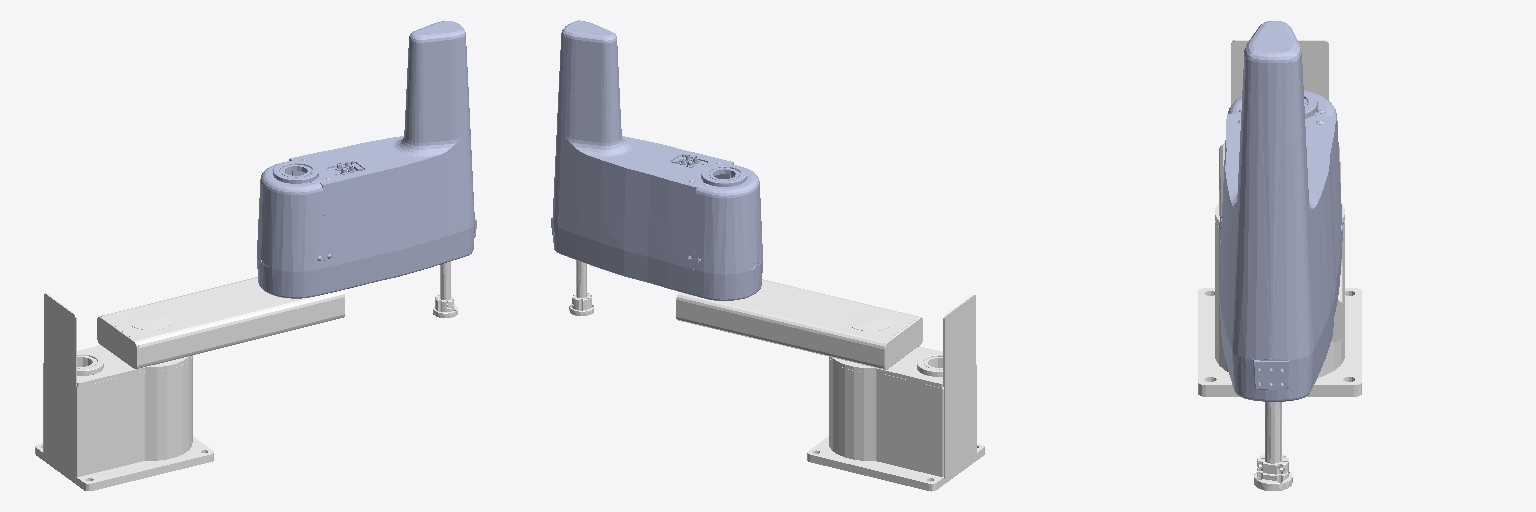
The robot description file, URDF, robot "mxx_scara":
<robot
  name="mxx_scara">
  <link
    name="base_link">
    <inertial>
      <origin
        xyz="-0.056372 9.8397E-09 0.09756"
        rpy="0 0 0" />
      <mass
        value="6.7102" />
      <inertia
        ixx="0.035086"
        ixy="3.8433E-10"
        ixz="0.001048"
        iyy="0.060758"
        iyz="9.1338E-10"
        izz="0.046059" />
    </inertial>
    <visual>
      <origin
        xyz="0 0 0"
        rpy="0 0 0" />
      <geometry>
        <mesh
          filename="package://scara_description/meshes/base_link.STL" />
      </geometry>
      <material
        name="">
        <color
          rgba="1 1 1 1" />
      </material>
    </visual>
    <collision>
      <origin
        xyz="0 0 0"
        rpy="0 0 0" />
      <geometry>
        <mesh
          filename="package://scara_description/meshes/base_link.STL" />
      </geometry>
    </collision>
  </link>
  <link
    name="link1">
    <inertial>
      <origin
        xyz="0.14444 2.1602E-10 -0.026696"
        rpy="0 0 0" />
      <mass
        value="3.1367" />
      <inertia
        ixx="0.0057974"
        ixy="1.2819E-10"
        ixz="0.00014013"
        iyy="0.048087"
        iyz="4.3318E-12"
        izz="0.052437" />
    </inertial>
    <visual>
      <origin
        xyz="0 0 0"
        rpy="0 0 0" />
      <geometry>
        <mesh
          filename="package://scara_description/meshes/link1.STL" />
      </geometry>
      <material
        name="">
        <color
          rgba="1 1 1 1" />
      </material>
    </visual>
    <collision>
      <origin
        xyz="0 0 0"
        rpy="0 0 0" />
      <geometry>
        <mesh
          filename="package://scara_description/meshes/link1.STL" />
      </geometry>
    </collision>
  </link>
  <joint
    name="joint1"
    type="revolute">
    <origin
      xyz="0 0 0.254"
      rpy="9.3983E-25 2.5634E-20 0.0084538" />
    <parent
      link="base_link" />
    <child
      link="link1" />
    <axis
      xyz="0 0 -1" />
    <limit
      lower="-1.57"
      upper="1.57"
      effort="10"
      velocity="0.5" />
  </joint>
  <link
    name="link2">
    <inertial>
      <origin
        xyz="0.13576 -3.2018E-05 0.080843"
        rpy="0 0 0" />
      <mass
        value="5.6089" />
      <inertia
        ixx="0.036326"
        ixy="-9.0415E-06"
        ixz="-0.0068183"
        iyy="0.092872"
        iyz="2.3098E-05"
        izz="0.071551" />
    </inertial>
    <visual>
      <origin
        xyz="0 0 0"
        rpy="0 0 0" />
      <geometry>
        <mesh
          filename="package://scara_description/meshes/link2.STL" />
      </geometry>
      <material
        name="">
        <color
          rgba="0.79216 0.81961 0.93333 1" />
      </material>
    </visual>
    <collision>
      <origin
        xyz="0 0 0"
        rpy="0 0 0" />
      <geometry>
        <mesh
          filename="package://scara_description/meshes/link2.STL" />
      </geometry>
    </collision>
  </link>
  <joint
    name="joint2"
    type="revolute">
    <origin
      xyz="0.3 0 -0.003"
      rpy="1.1025E-21 -2.5499E-20 -0.043209" />
    <parent
      link="link1" />
    <child
      link="link2" />
    <axis
      xyz="0 0 -1" />
    <limit
      lower="-1.57"
      upper="1.57"
      effort="200"
      velocity="0.5" />
  </joint>
  <link
    name="fake_link">
    <inertial>
      <origin
        xyz="5.5511E-17 0 -0.19706"
        rpy="0 0 0" />
      <mass
        value="0.00025258" />
      <inertia
        ixx="2.6125E-09"
        ixy="-5.7623E-26"
        ixz="6.8932E-26"
        iyy="2.6125E-09"
        iyz="-6.8932E-26"
        izz="1.0153E-09" />
    </inertial>
    <visual>
      <origin
        xyz="0 0 0"
        rpy="0 0 0" />
      <geometry>
        <mesh
          filename="package://scara_description/meshes/fake_link.STL" />
      </geometry>
      <material
        name="">
        <color
          rgba="1 1 1 1" />
      </material>
    </visual>
    <collision>
      <origin
        xyz="0 0 0"
        rpy="0 0 0" />
      <geometry>
        <mesh
          filename="package://scara_description/meshes/fake_link.STL" />
      </geometry>
    </collision>
  </link>
  <joint
    name="joint4"
    type="revolute">
    <origin
      xyz="0.3 0 -0.11803"
      rpy="-3.1416 -1.0336E-22 -0.0047866" />
    <parent
      link="link2" />
    <child
      link="fake_link" />
    <axis
      xyz="0 0 1" />
    <limit
      lower="-3.14"
      upper="3.14"
      effort="200"
      velocity="0.5" />
  </joint>
  <link
    name="link3">
    <inertial>
      <origin
        xyz="-0.00025151 -6.8499E-05 -0.18776"
        rpy="0 0 0" />
      <mass
        value="0.10681" />
      <inertia
        ixx="0.0023302"
        ixy="5.998E-08"
        ixz="4.4198E-06"
        iyy="0.00233"
        iyz="1.3222E-06"
        izz="1.1087E-05" />
    </inertial>
    <visual>
      <origin
        xyz="0 0 0"
        rpy="0 0 0" />
      <geometry>
        <mesh
          filename="package://scara_description/meshes/link3.STL" />
      </geometry>
      <material
        name="">
        <color
          rgba="1 1 1 1" />
      </material>
    </visual>
    <collision>
      <origin
        xyz="0 0 0"
        rpy="0 0 0" />
      <geometry>
        <mesh
          filename="package://scara_description/meshes/link3.STL" />
      </geometry>
    </collision>
  </link>
  <joint
    name="joint3"
    type="prismatic">
    <origin
      xyz="0 0 0"
      rpy="0 0 0" />
    <parent
      link="fake_link" />
    <child
      link="link3" />
    <axis
      xyz="0 0 -1" />
    <limit
      lower="-0.1"
      upper="0.1"
      effort="200"
      velocity="0.5" />
  </joint>
</robot>

--- Render facts (derived) ---
3 views of the same robot in one strip: view 1: azimuth 30°, elevation 25°; view 2: azimuth 150°, elevation 25°; view 3: azimuth 270°, elevation 25° (orthographic).
Robot: mxx_scara — 5 links, 4 joints (3 revolute, 1 prismatic); root link base_link; default pose: every joint at zero.
Links seen in each view (by area): view 1: link2, base_link, link1, link3; view 2: link2, base_link, link1, link3; view 3: link2, base_link, link3, link1.
Boxes of the visible links, <box> form: link2: <box>257,21,476,298</box>; base_link: <box>35,293,213,490</box>; link1: <box>97,277,344,368</box>; link3: <box>433,261,457,317</box>; link2: <box>551,20,762,300</box>; base_link: <box>807,295,984,491</box>; link1: <box>676,279,922,369</box>; link3: <box>569,260,593,315</box>; link2: <box>1219,21,1343,401</box>; base_link: <box>1198,40,1361,396</box>; link3: <box>1254,402,1292,490</box>; link1: <box>1219,143,1342,341</box>.
Size in the robot's own frame: 0.838 by 0.19 by 0.6915 metres.
Meshes: 5 distinct files referenced, 5 mesh visuals loaded (5 binary STL).